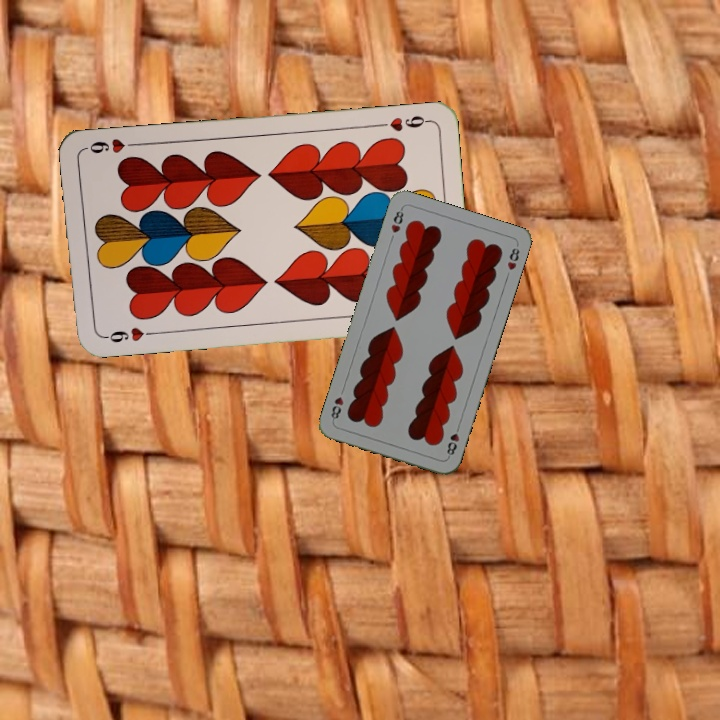H8: (442, 421, 462, 460), (387, 204, 406, 236)
H9: (372, 111, 432, 134), (98, 323, 158, 345)
